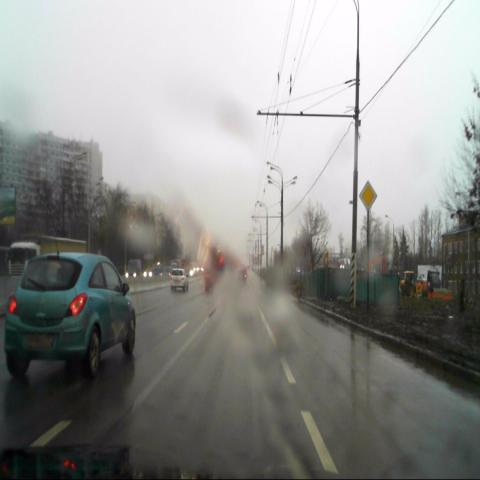2_1: (359, 180, 376, 210)
